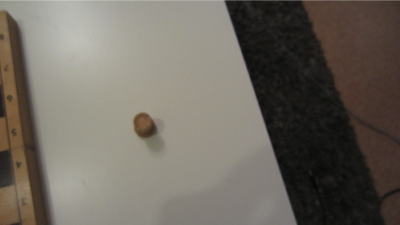white-rook: (133, 112, 157, 138)
